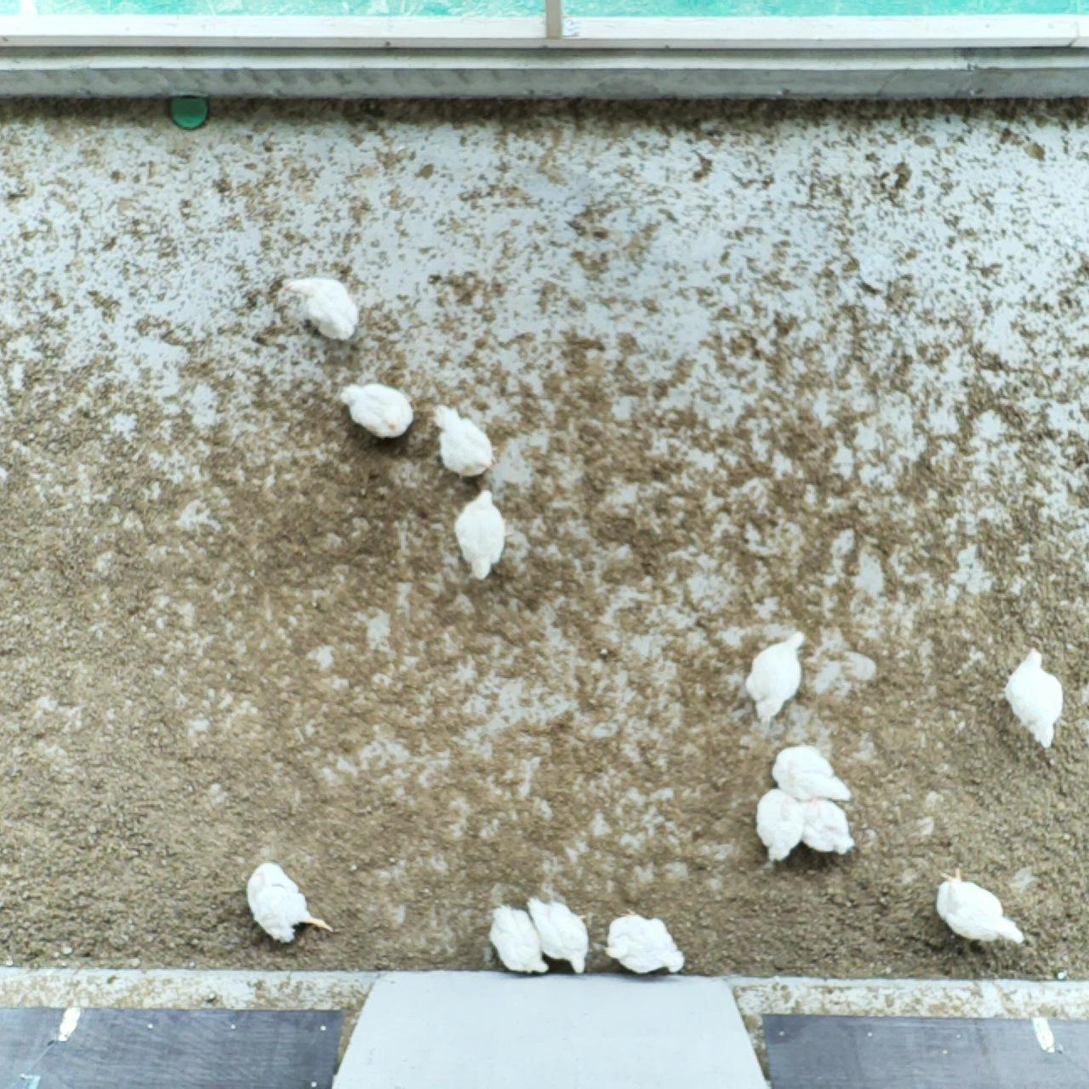chicken: (930, 862, 1032, 958), (242, 858, 335, 955), (1001, 642, 1070, 751), (745, 626, 812, 726), (601, 904, 690, 979), (522, 890, 596, 980), (278, 272, 365, 348), (770, 741, 858, 813), (334, 373, 418, 447), (427, 397, 500, 481), (452, 482, 510, 582), (486, 900, 553, 982), (794, 788, 864, 863), (753, 782, 810, 865)
